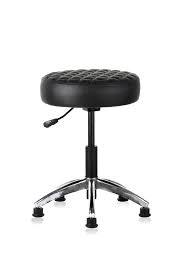stool: (31, 67, 151, 228)
